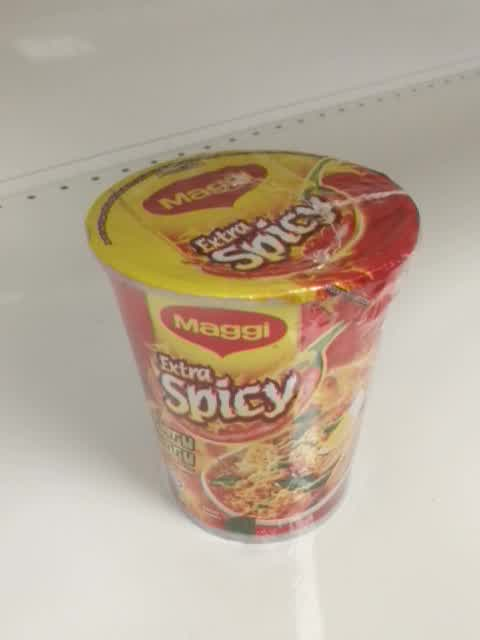maggi: (85, 148, 421, 546)
